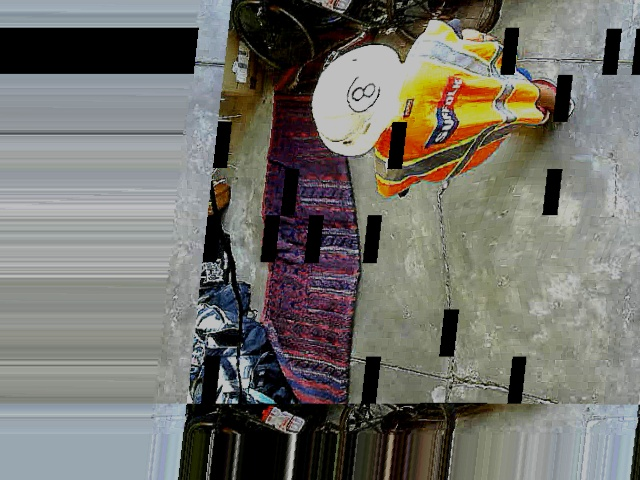eight: (343, 71, 386, 112)
